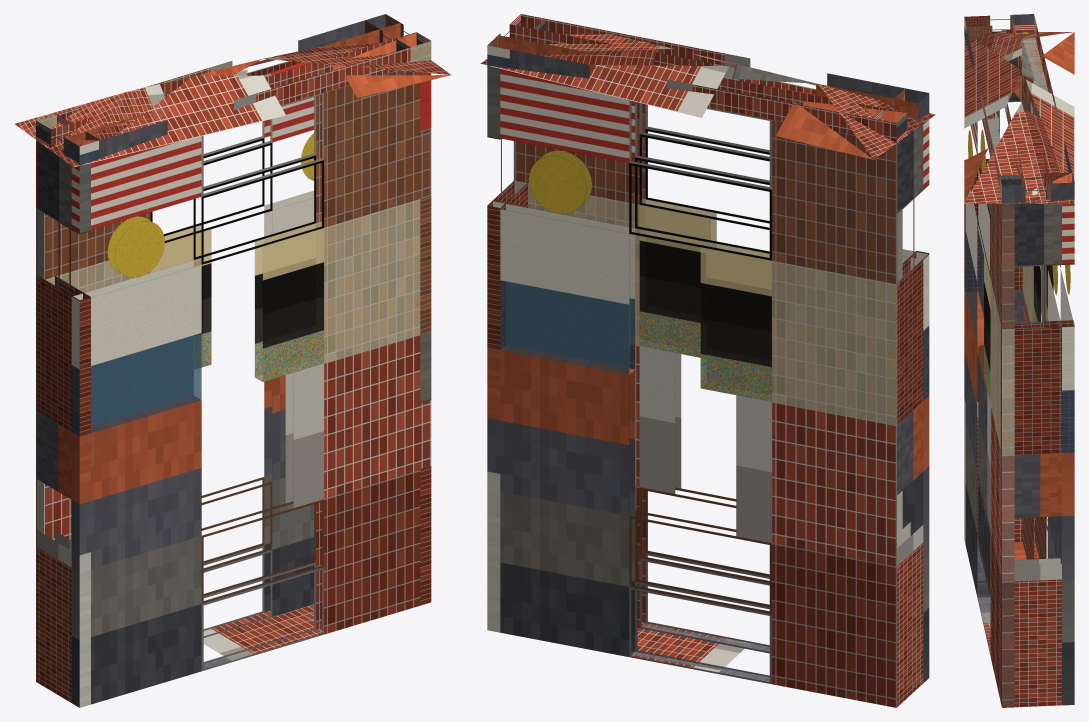
3 renders of one model, left to right at view 1: azimuth 30°, elevation 25°; view 2: azimuth 150°, elevation 25°; view 3: azimuth 270°, elevation 25°, orthographic. The views are drawn at different scales.
Visible parts, largest first — view 1: 238575827__wall_1_xb, 238575827__wall_3_xb, 238575827__wall_0_xb, 238575827__wall_1_xf, 238575827_roof_front_xb, 238575827__cornice_1, 238575827__wall_2_xb, 238575827_roof_left_xb, 238575827__base, 238575827__cornice_3, 238575827__wall_3_xf, 238575827_roof_right_xb (+2 smaller); view 2: 238575827__wall_3_xb, 238575827__wall_1_xb, 238575827__wall_3_xf, 238575827__wall_0_xb, 238575827__wall_1_xf, 238575827_roof_back_xb, 238575827__cornice_3, 238575827__wall_2_xb, 238575827__cornice_1, 238575827_roof_right_xb, 238575827__base, 238575827_roof_left_xb (+1 smaller); view 3: 238575827__wall_1_xb, 238575827__wall_2_xb, 238575827__wall_3_xb, 238575827_roof_right_xb, 238575827_roof_front_xb, 238575827_roof_back_xb, 238575827__wall_0_xb, 238575827__wall_1_xf, 238575827__cornice_3, 238575827_roof_left_xb, 238575827__cornice_1, 238575827__wall_3_xf (+3 smaller).
Part boxes in pixels (box(x1,y1,x2,y2)): 238575827__wall_1_xb: box(71, 70, 431, 707); 238575827__wall_3_xb: box(36, 62, 315, 637); 238575827__wall_0_xb: box(36, 140, 90, 707); 238575827__wall_1_xf: box(72, 216, 323, 435); 238575827_roof_front_xb: box(74, 75, 451, 167); 238575827__cornice_1: box(65, 32, 423, 165); 238575827__wall_2_xb: box(420, 72, 431, 605); 238575827_roof_left_xb: box(15, 59, 261, 167); 238575827__base: box(203, 604, 321, 660); 238575827__cornice_3: box(50, 14, 400, 147); 238575827__wall_3_xf: box(151, 225, 211, 366); 238575827_roof_right_xb: box(160, 43, 450, 84); 238575827__wall_3_xb: box(487, 69, 902, 707); 238575827__wall_1_xb: box(515, 89, 929, 682); 238575827__wall_3_xf: box(500, 150, 771, 675); 238575827__wall_0_xb: box(896, 124, 929, 707); 238575827__wall_1_xf: box(640, 200, 928, 399); 238575827_roof_back_xb: box(481, 64, 873, 159); 238575827__cornice_3: box(487, 35, 907, 142); 238575827__wall_2_xb: box(487, 65, 527, 632); 238575827__cornice_1: box(509, 14, 929, 121); 238575827_roof_right_xb: box(480, 34, 815, 83); 238575827__base: box(631, 622, 749, 672); 238575827_roof_left_xb: box(694, 53, 935, 159); 238575827__wall_1_xb: box(964, 114, 1014, 707); 238575827__wall_2_xb: box(1000, 203, 1074, 707); 238575827__wall_3_xb: box(1022, 37, 1074, 705); 238575827_roof_right_xb: box(964, 40, 1074, 203); 238575827_roof_front_xb: box(964, 36, 1021, 202); 238575827_roof_back_xb: box(1025, 32, 1074, 202); 238575827__wall_0_xb: box(964, 58, 1035, 543); 238575827__wall_1_xf: box(966, 130, 989, 398); 238575827__cornice_3: box(1010, 14, 1074, 200); 238575827_roof_left_xb: box(972, 32, 1073, 101); 238575827__cornice_1: box(964, 16, 1025, 203); 238575827__wall_3_xf: box(1034, 266, 1074, 452).
Bounding box in the file's own units: 0.5109 × 0.7416 × 0.1388.
1 material, 1 textured.
